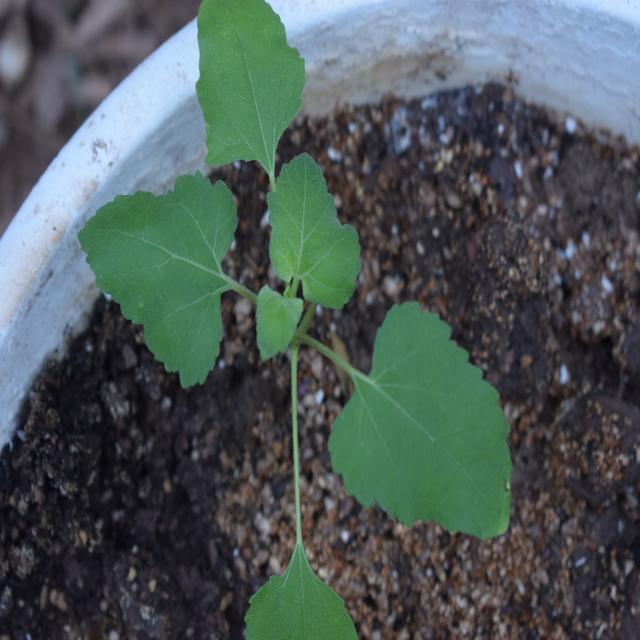cocklebur: (125, 0, 502, 561)
